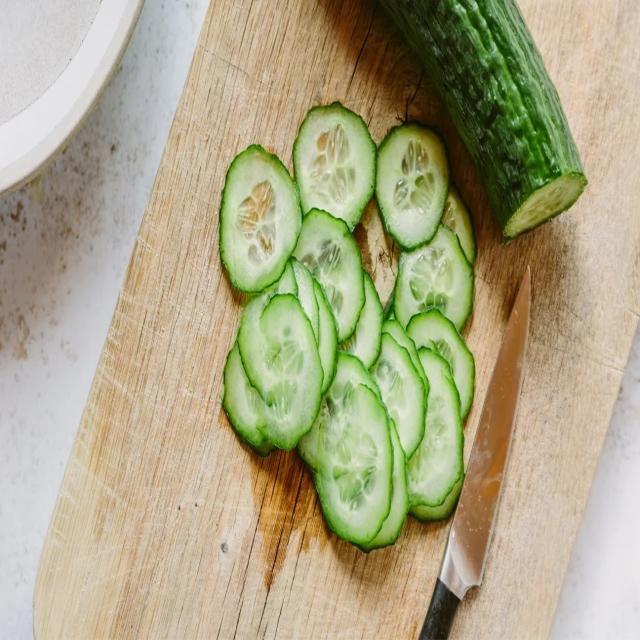Pickle: (382, 0, 588, 244), (299, 352, 392, 545), (238, 294, 324, 448), (220, 145, 301, 293), (292, 102, 376, 229), (375, 122, 450, 249), (295, 209, 365, 339), (394, 223, 474, 329), (406, 372, 464, 505), (406, 309, 475, 419), (370, 334, 426, 460)
